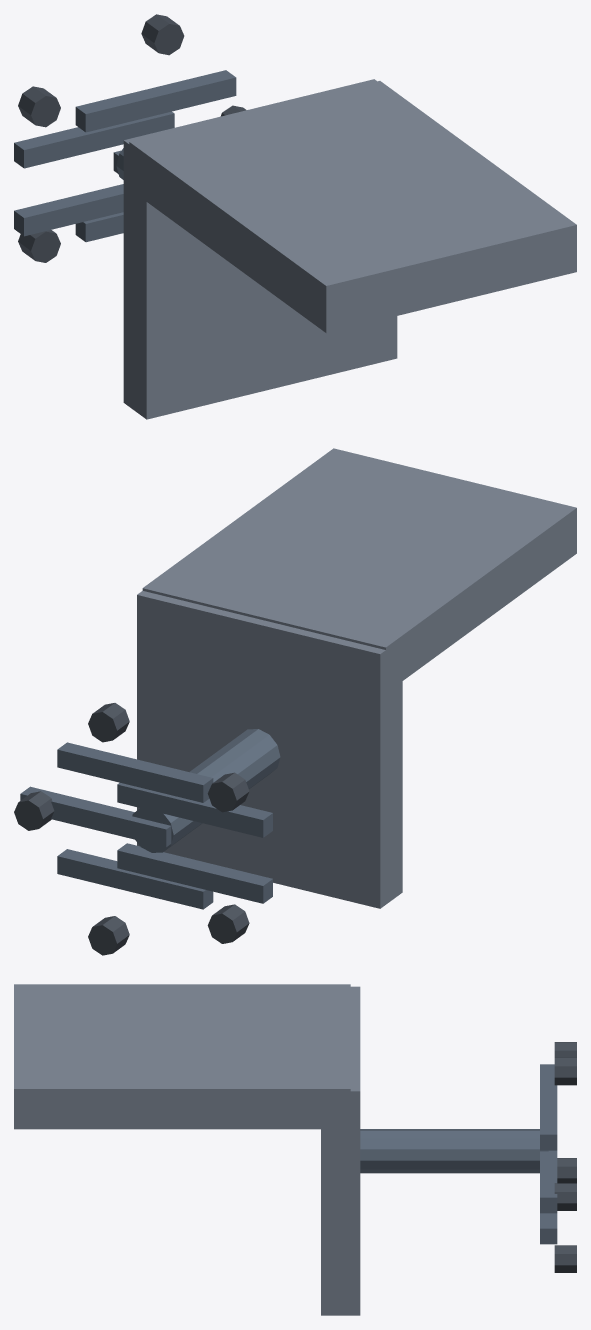
File: chair.glb
3 renders of one model, top to bottom at view 1: azimuth 30°, elevation 25°; view 2: azimuth 150°, elevation 25°; view 3: azimuth 270°, elevation 25°, orthographic. The views are drawn at different scales.
Visible parts, largest first — view 1: back_1, seat_0, spoke_5, spoke_7, spoke_9, wheel_6, wheel_8, wheel_10, spoke_11; view 2: seat_0, back_1, spoke_5, spoke_9, post_2, spoke_11, spoke_7, spoke_3, wheel_10, wheel_12, wheel_8, wheel_6 (+1 smaller); view 3: back_1, seat_0, post_2, spoke_5, spoke_3, wheel_6, wheel_12, wheel_4, spoke_11, wheel_10.
Boxes of the visible parts, x1,y1,x2,y2 form: back_1: [129, 81, 576, 333]; seat_0: [123, 79, 397, 419]; spoke_5: [75, 70, 236, 132]; spoke_7: [14, 111, 174, 168]; spoke_9: [14, 184, 123, 236]; wheel_6: [141, 14, 184, 55]; wheel_8: [18, 86, 60, 127]; wheel_10: [18, 230, 60, 262]; spoke_11: [75, 212, 123, 242]; seat_0: [137, 590, 402, 908]; back_1: [142, 448, 576, 692]; spoke_5: [57, 742, 213, 802]; spoke_9: [117, 843, 272, 903]; post_2: [132, 729, 280, 852]; spoke_11: [57, 849, 213, 909]; spoke_7: [117, 783, 272, 837]; spoke_3: [20, 786, 171, 847]; wheel_10: [207, 904, 249, 943]; wheel_12: [88, 916, 129, 955]; wheel_8: [207, 772, 249, 812]; wheel_6: [88, 703, 129, 742]; back_1: [14, 984, 350, 1129]; seat_0: [321, 986, 360, 1315]; post_2: [360, 1129, 548, 1173]; spoke_5: [540, 1072, 557, 1150]; spoke_3: [540, 1150, 557, 1213]; wheel_6: [554, 1057, 576, 1085]; wheel_12: [554, 1245, 576, 1272]; wheel_4: [554, 1183, 576, 1210]; spoke_11: [540, 1213, 557, 1244]; wheel_10: [557, 1158, 576, 1183].
Bounding box in the file's own units: 0.51 × 0.505 × 1.14.
